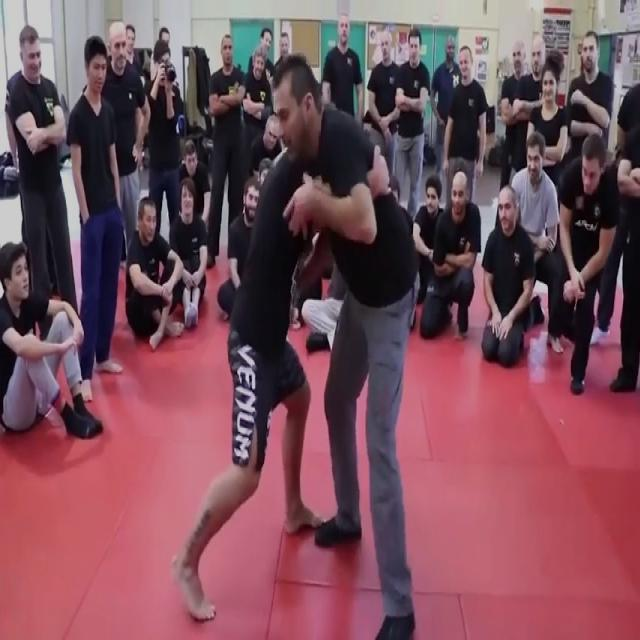fight: (166, 44, 424, 638)
non-fight: (0, 232, 98, 455), (548, 128, 624, 400), (418, 163, 486, 341), (117, 192, 185, 351)
